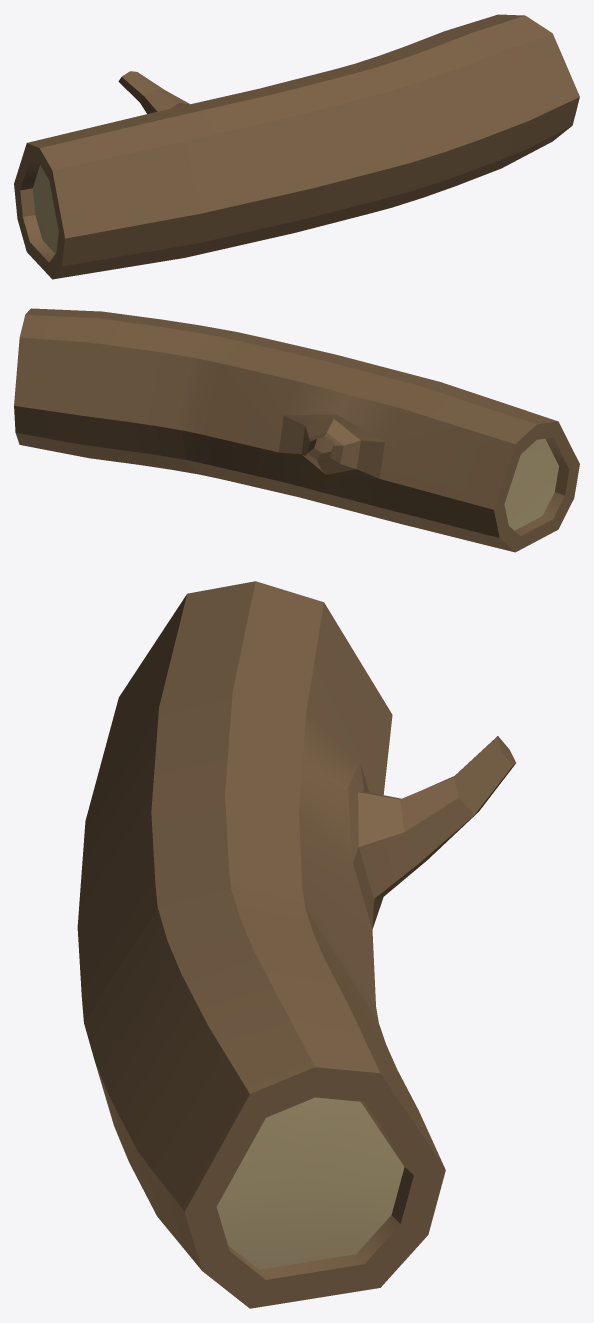
File: FallenLog.fbx
3 views of the same model, one above another, from view 1: azimuth 30°, elevation 25°; view 2: azimuth 150°, elevation 25°; view 3: azimuth 270°, elevation 25° (orthographic). The views are drawn at different scales.
Parts seen in each view (by area): view 1: FallenLog; view 2: FallenLog; view 3: FallenLog.
Boxes of the visible parts, bbox=[...] form: FallenLog: bbox=[14, 14, 579, 279]; FallenLog: bbox=[14, 308, 579, 552]; FallenLog: bbox=[77, 581, 515, 1308].
Size of the model in its own units: 6.75 by 1.53 by 2.43.
